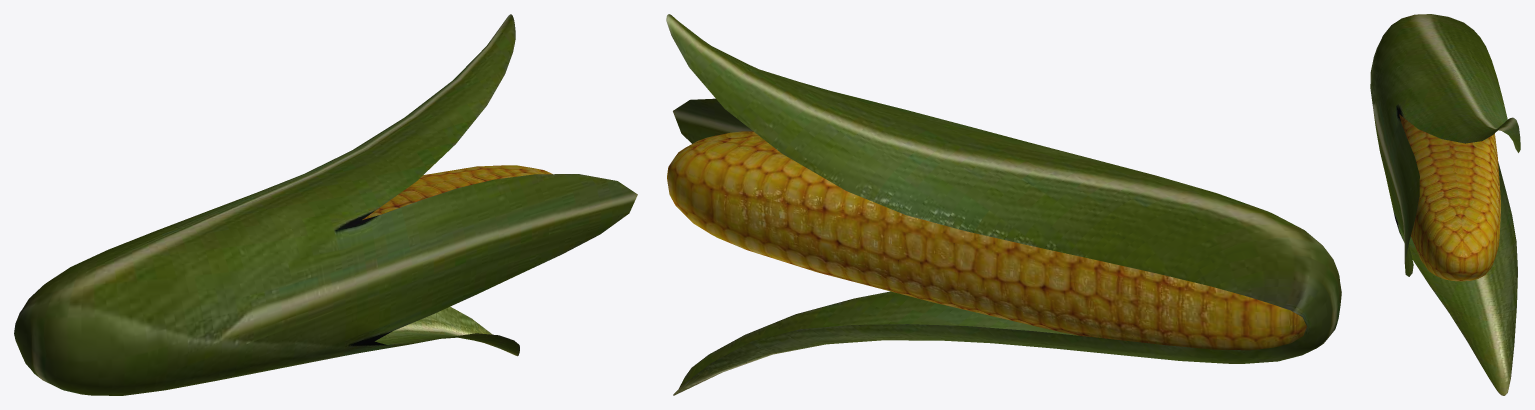
The model's file is elote.glb.
The picture shows the model from 3 angles, left to right: view 1: azimuth 30°, elevation 25°; view 2: azimuth 150°, elevation 25°; view 3: azimuth 270°, elevation 25°; orthographic projection. The views are drawn at different scales.
Visible parts, largest first — view 1: elote; view 2: elote; view 3: elote.
Boxes of the visible parts, <box> form: elote: <box>14,14,637,395</box>; elote: <box>666,14,1341,395</box>; elote: <box>1370,14,1520,395</box>.
Bounding box in the file's own units: 0.4164 × 0.2266 × 0.1107.
Materials: 1 (1 with a texture image).
